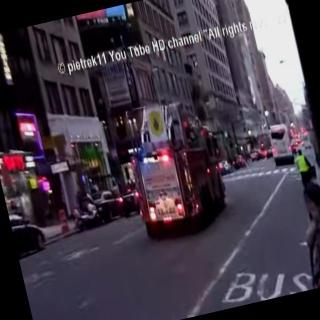Fire_truck: (115, 90, 236, 243)
